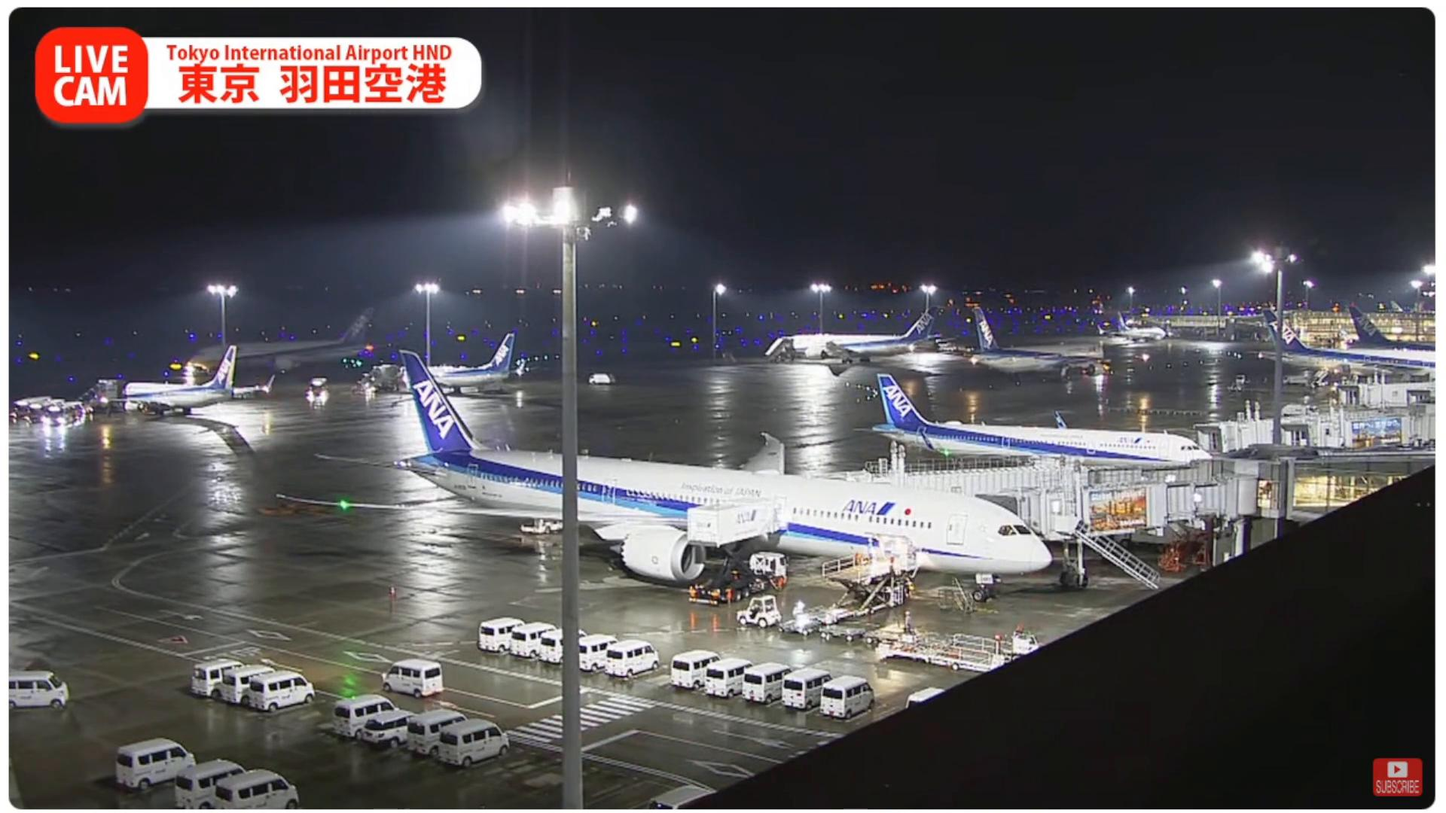Aerobridge: (899, 456, 1287, 522), (991, 479, 1253, 538)
Airplane: (274, 346, 1056, 587)
Catering: (689, 495, 789, 605)
Dolly: (775, 614, 903, 647)
JCPL: (818, 538, 915, 619), (892, 635, 1020, 672)
Tractor: (732, 593, 787, 632)
Window: (1290, 451, 1437, 524)
